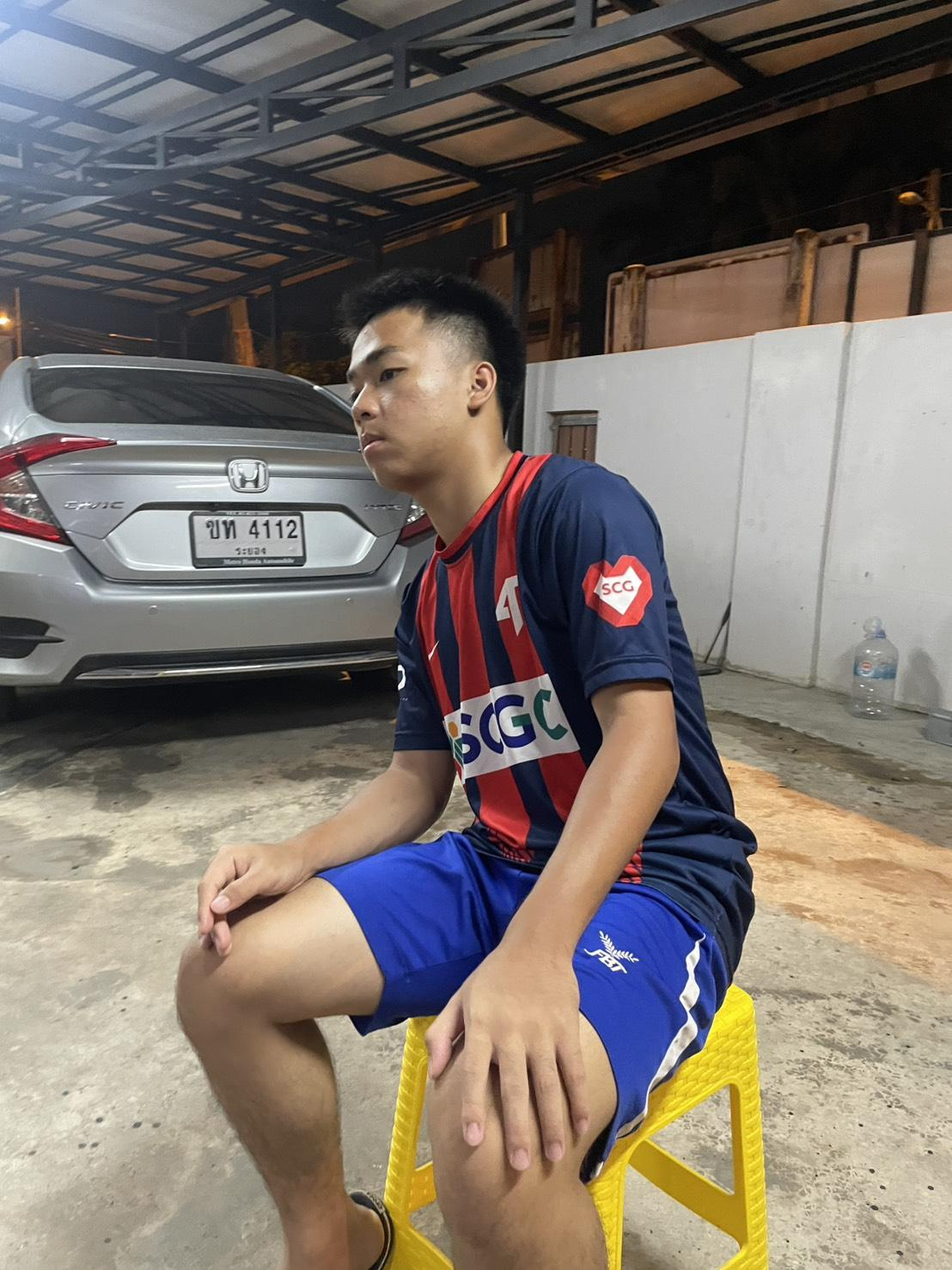BadPosture: (342, 271, 755, 972)
